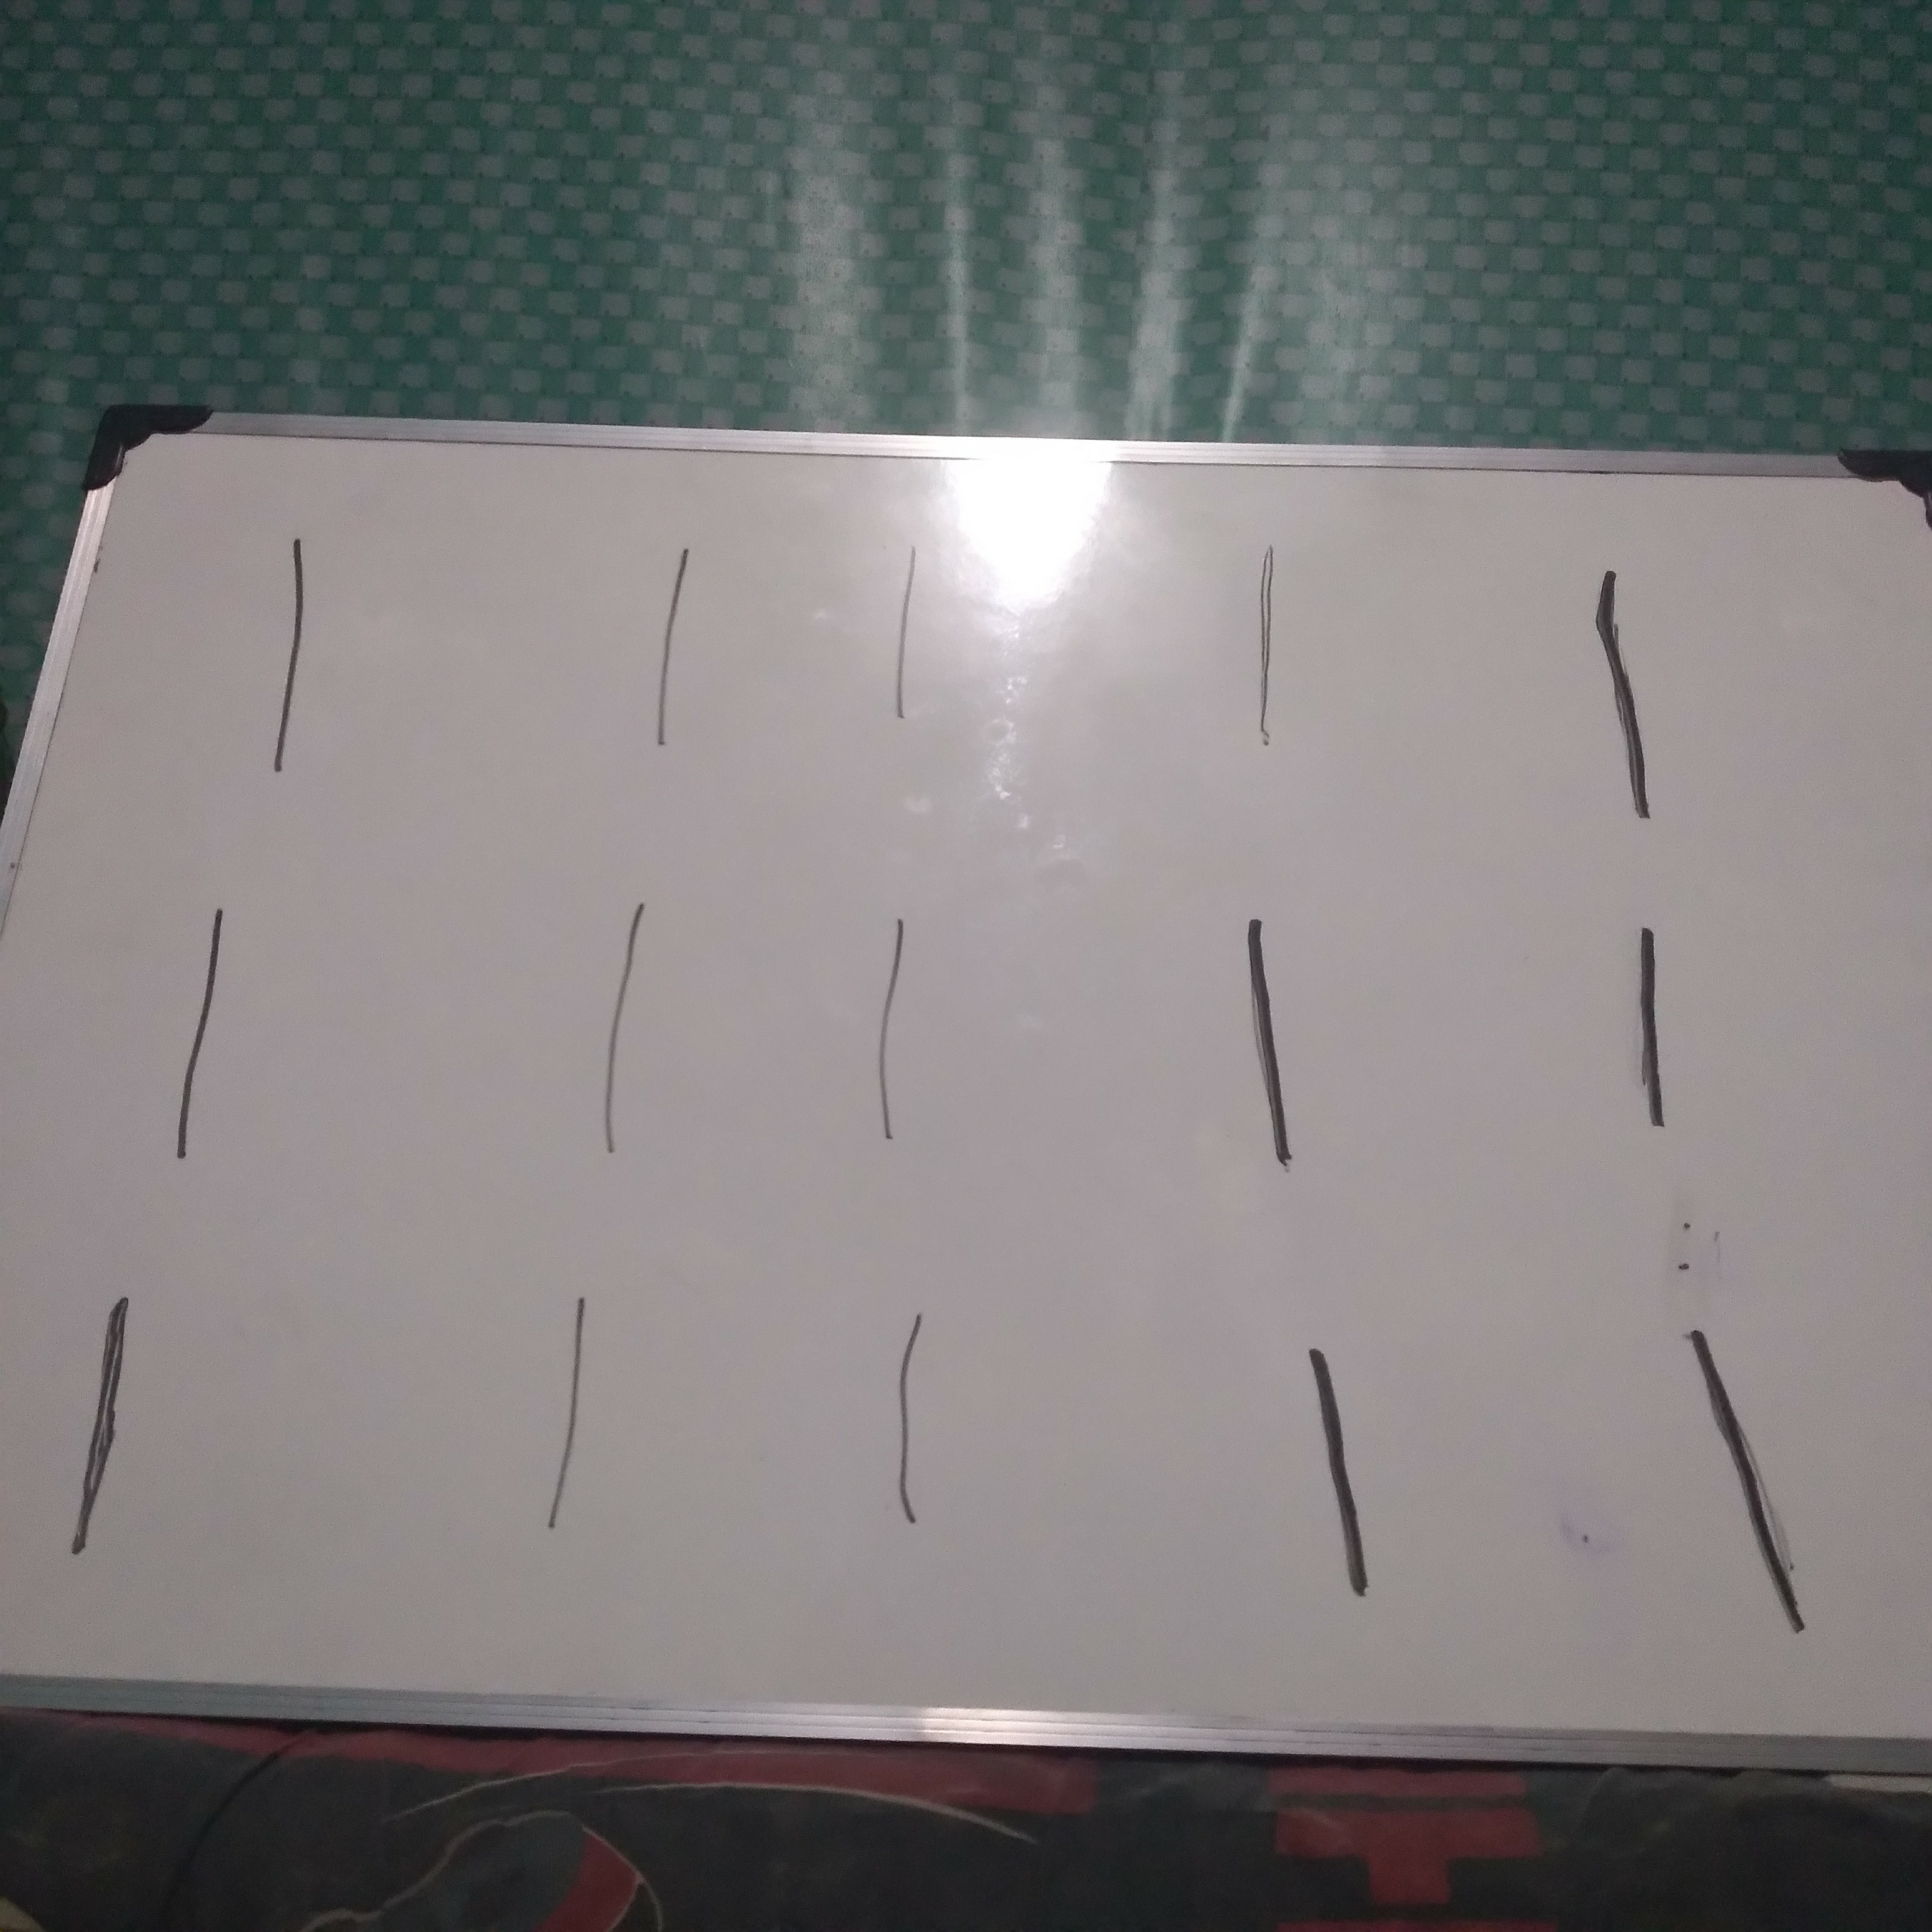num1: (1683, 1321, 1843, 1650), (1586, 560, 1671, 850), (54, 1272, 139, 1562), (522, 1259, 608, 1549), (244, 516, 329, 806), (152, 892, 237, 1182), (582, 888, 667, 1178), (623, 519, 708, 810), (854, 520, 939, 810), (1230, 519, 1315, 809), (1603, 895, 1688, 1186), (1236, 884, 1321, 1174), (833, 897, 918, 1187), (870, 1264, 955, 1555), (1293, 1318, 1378, 1608)
